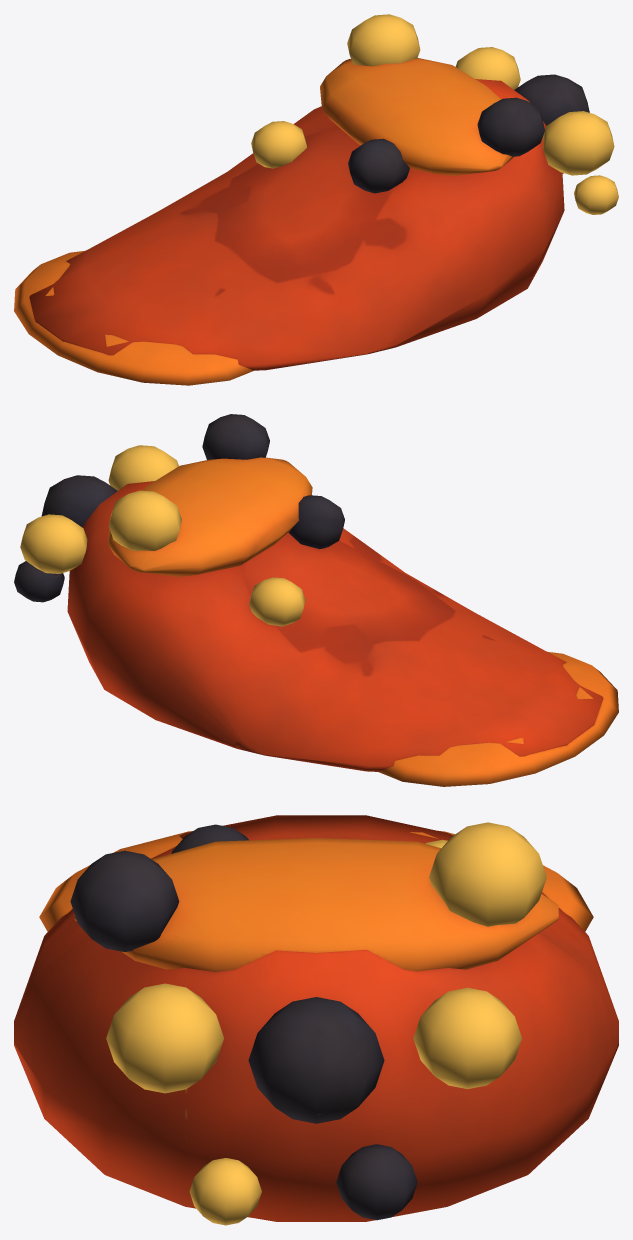
File: EF_FX_MagmaWave.fbx
The picture shows the model from 3 angles, top to bottom: view 1: azimuth 30°, elevation 25°; view 2: azimuth 150°, elevation 25°; view 3: azimuth 270°, elevation 25°; orthographic projection. The views are drawn at different scales.
Visible parts, largest first — view 1: EF_FX_MagmaWave; view 2: EF_FX_MagmaWave; view 3: EF_FX_MagmaWave.
Part boxes in pixels (box(x1,y1,x2,y2)): EF_FX_MagmaWave: box(14, 14, 618, 385); EF_FX_MagmaWave: box(14, 414, 618, 786); EF_FX_MagmaWave: box(14, 815, 618, 1225).
Bounding box in the file's own units: 211 × 70.4 × 120.
Materials: 1 (1 with a texture image).
